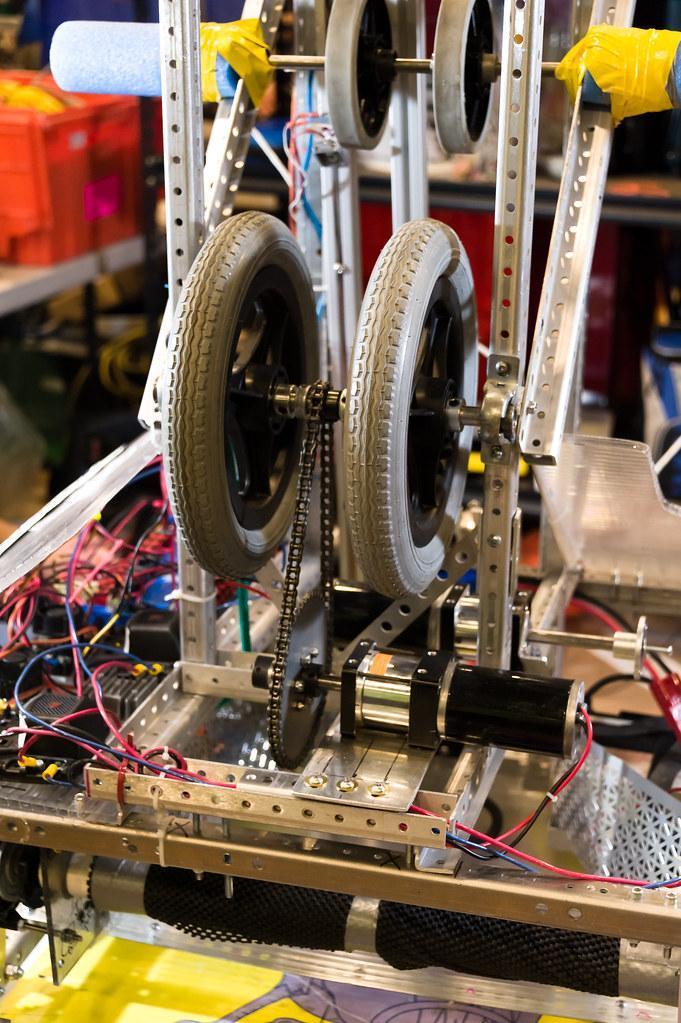robot: (0, 0, 681, 1016)
